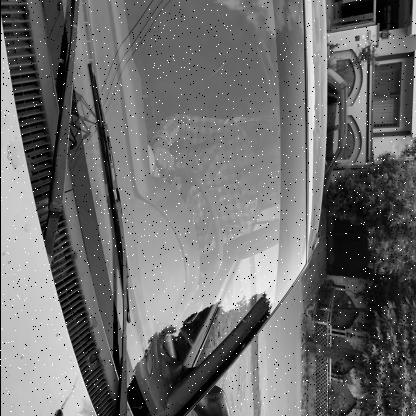no_seatbelt: (197, 143, 287, 254)
